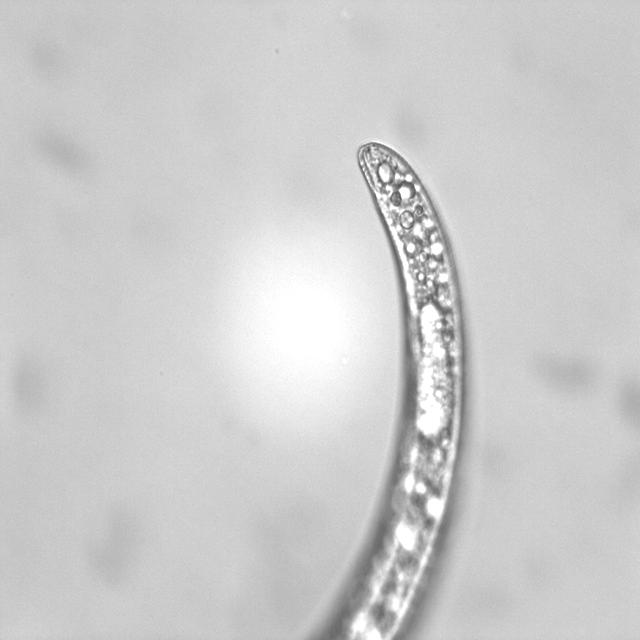Helicotylenchus: (246, 125, 481, 640)
